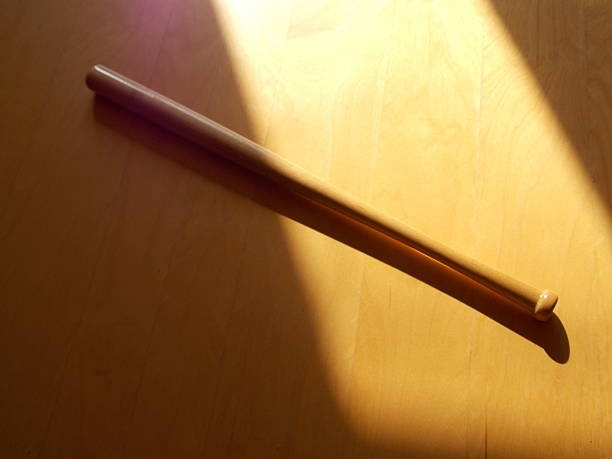bita: (86, 64, 552, 319)
